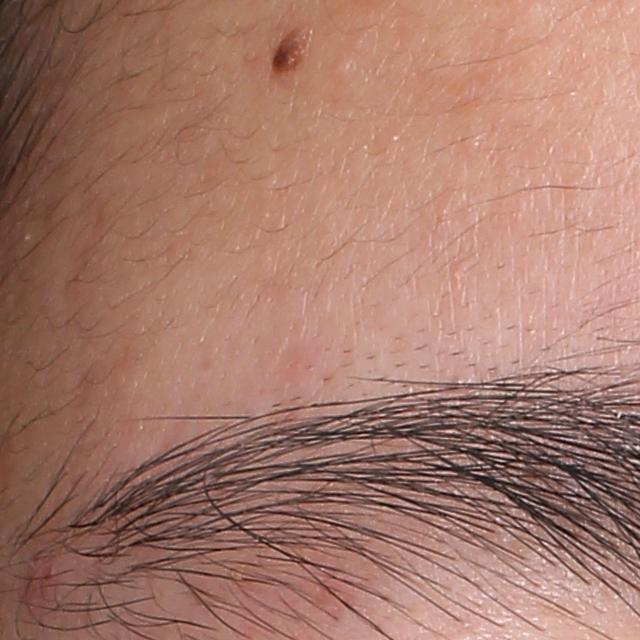nevus: (265, 24, 314, 80)
